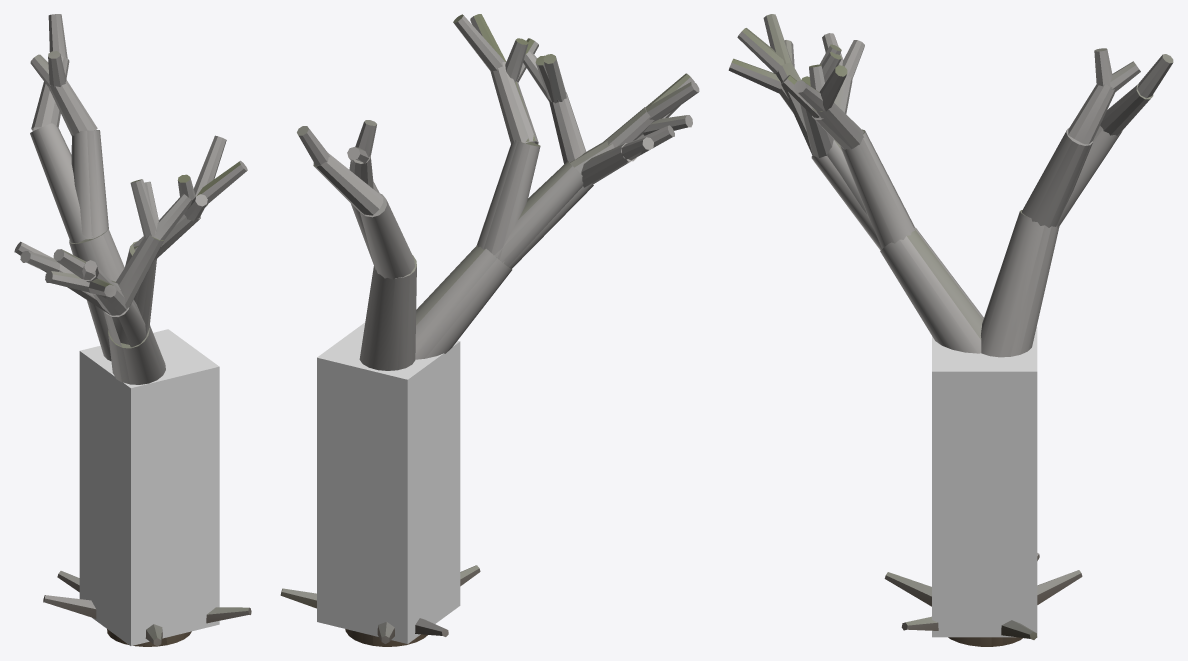
File: prop_tree_dead_b.glb
3 renders of one model, left to right at view 1: azimuth 30°, elevation 25°; view 2: azimuth 150°, elevation 25°; view 3: azimuth 270°, elevation 25°, orthographic. The views are drawn at different scales.
Parts seen in each view (by area): view 1: col_trunk.001, tree_dead.001; view 2: col_trunk.001, tree_dead.001; view 3: tree_dead.001, col_trunk.001.
Boxes of the visible parts, x1,y1,x2,y2 form: col_trunk.001: [79, 329, 219, 645]; tree_dead.001: [14, 14, 251, 646]; col_trunk.001: [317, 322, 460, 643]; tree_dead.001: [280, 14, 699, 646]; tree_dead.001: [728, 14, 1173, 646]; col_trunk.001: [932, 327, 1037, 637].
Bounding box in the file's own units: 2.32 × 4.36 × 3.04.
